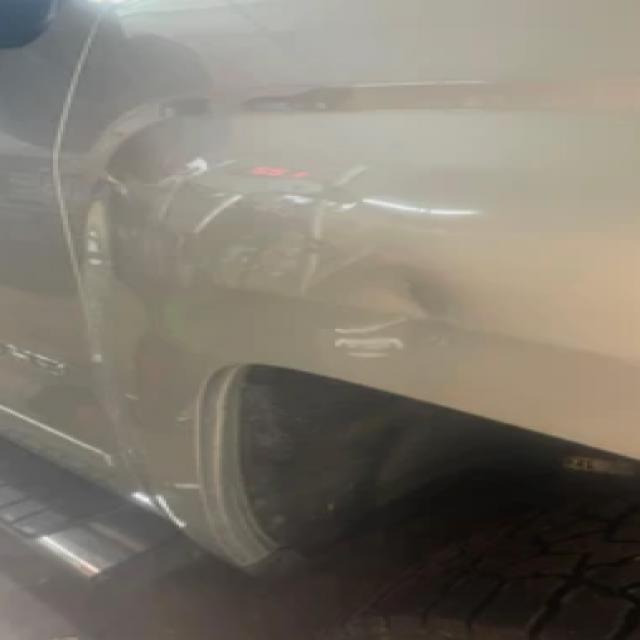dents: (322, 257, 472, 373)
